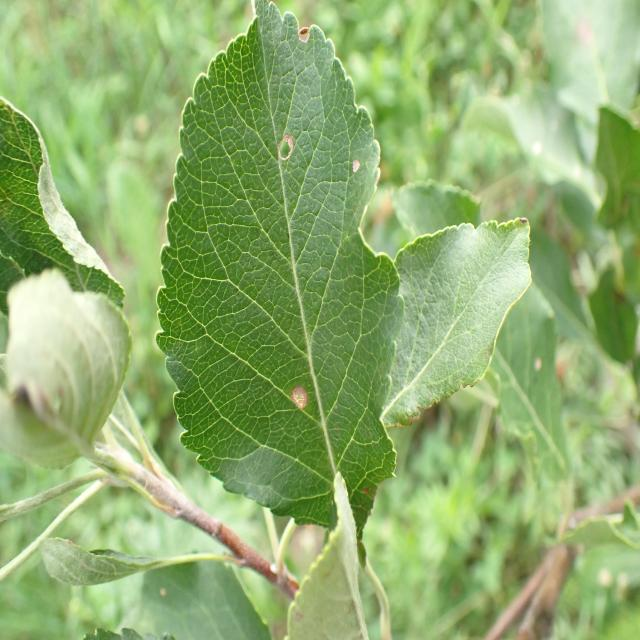Black Rot: (285, 357, 320, 443), (264, 128, 298, 173), (347, 137, 364, 194), (290, 18, 316, 50)
